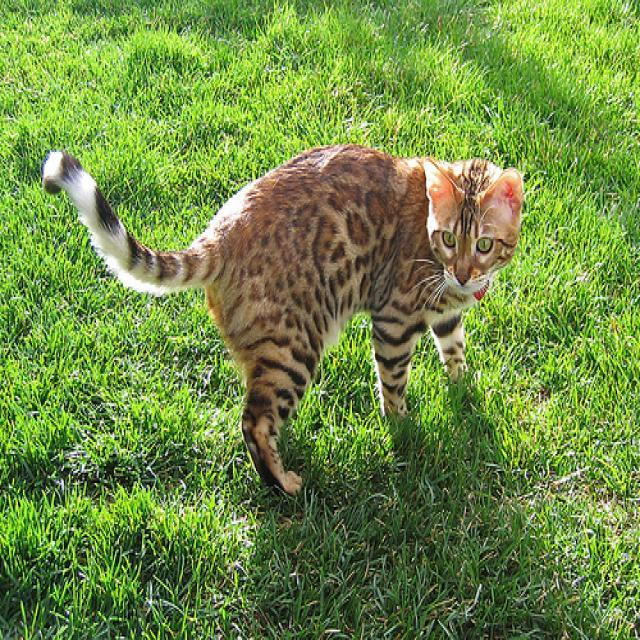Bengal: (422, 154, 521, 292)
